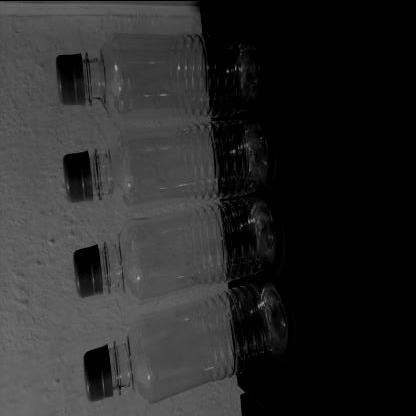bottle: (88, 280, 295, 404), (71, 202, 288, 305), (58, 116, 280, 202), (54, 35, 266, 117)
